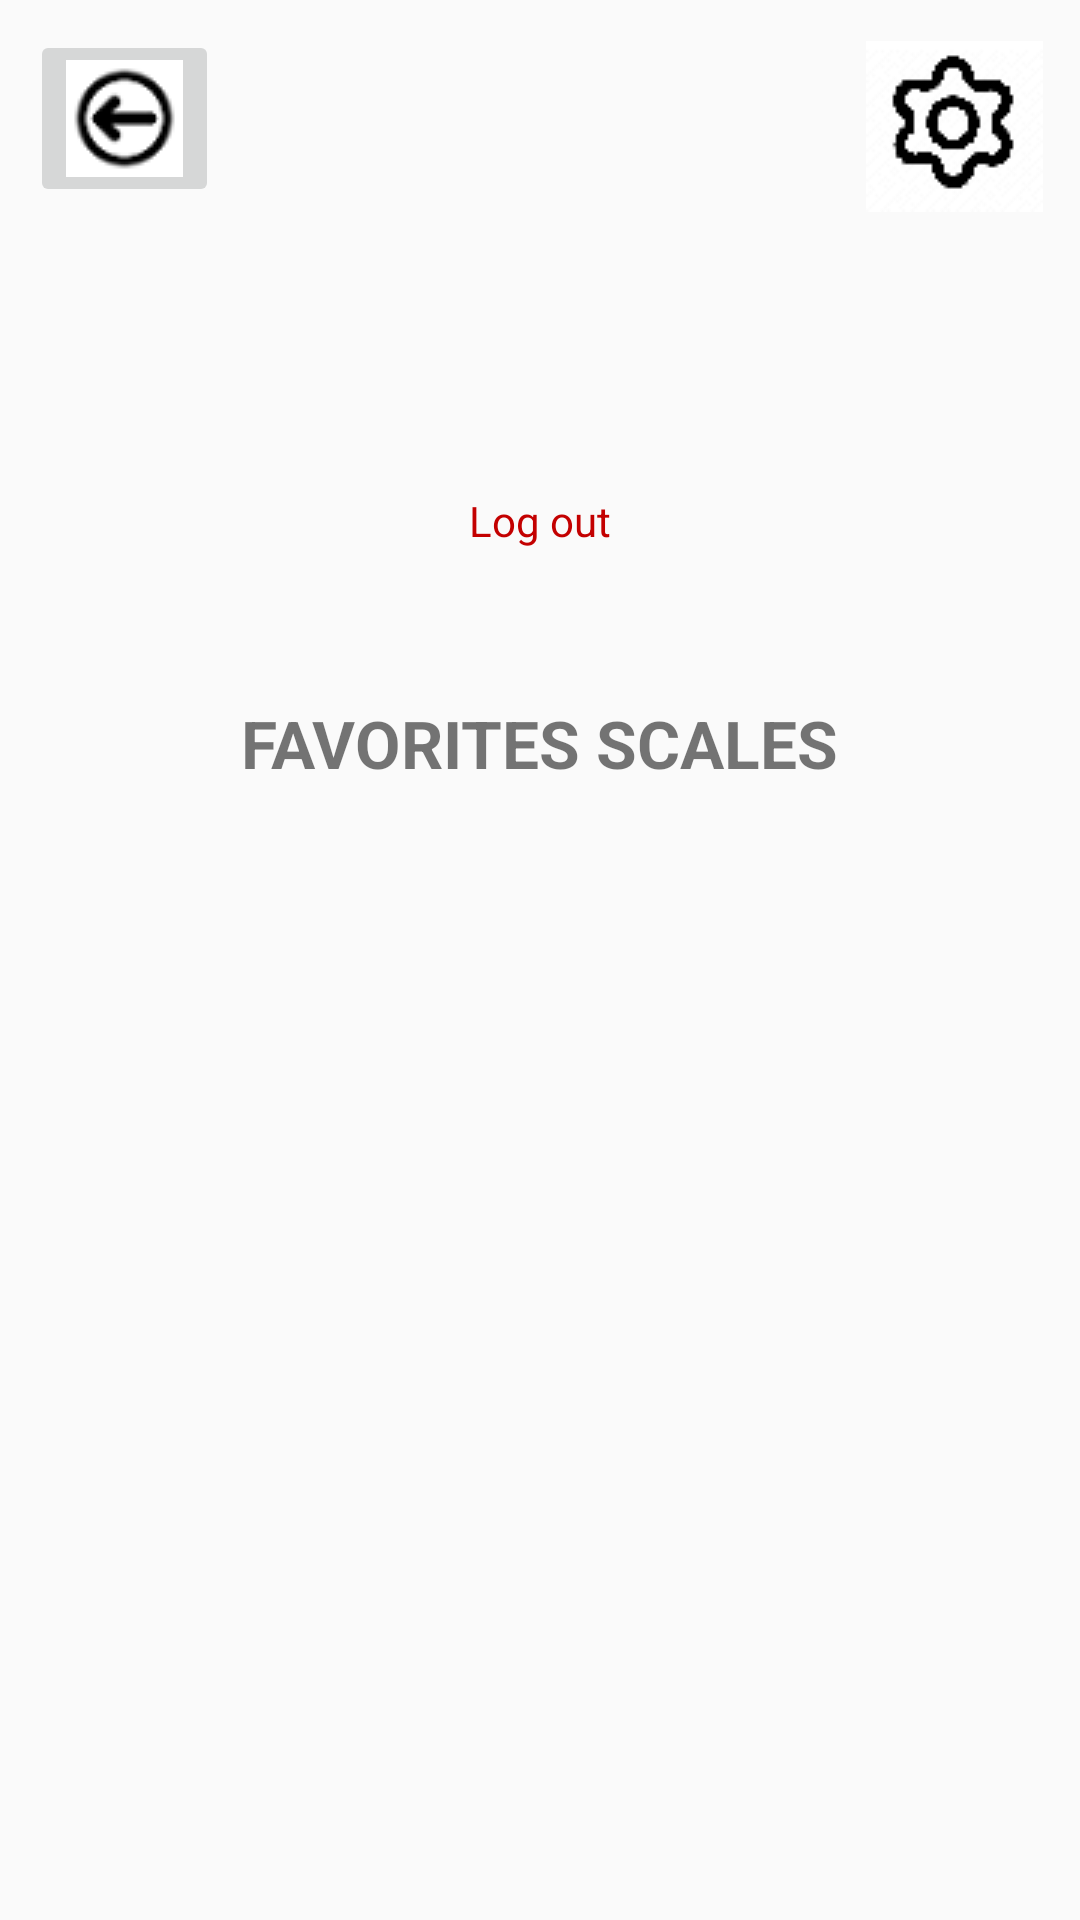

Icons on this 1080w x 1920h Android screen, each with its box as (x1, y1, x2, y2):
back: (42, 48, 207, 189)
settings: (892, 55, 1014, 189)
